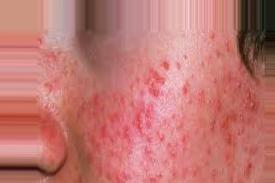Acne: (122, 102, 168, 141), (233, 96, 272, 127), (146, 67, 172, 113), (91, 111, 126, 141)
